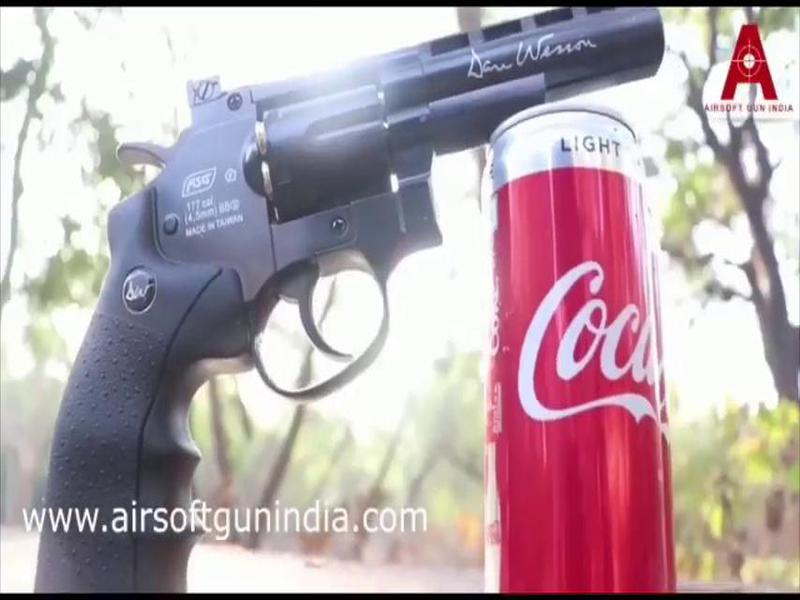Revolver: (42, 14, 686, 584)
